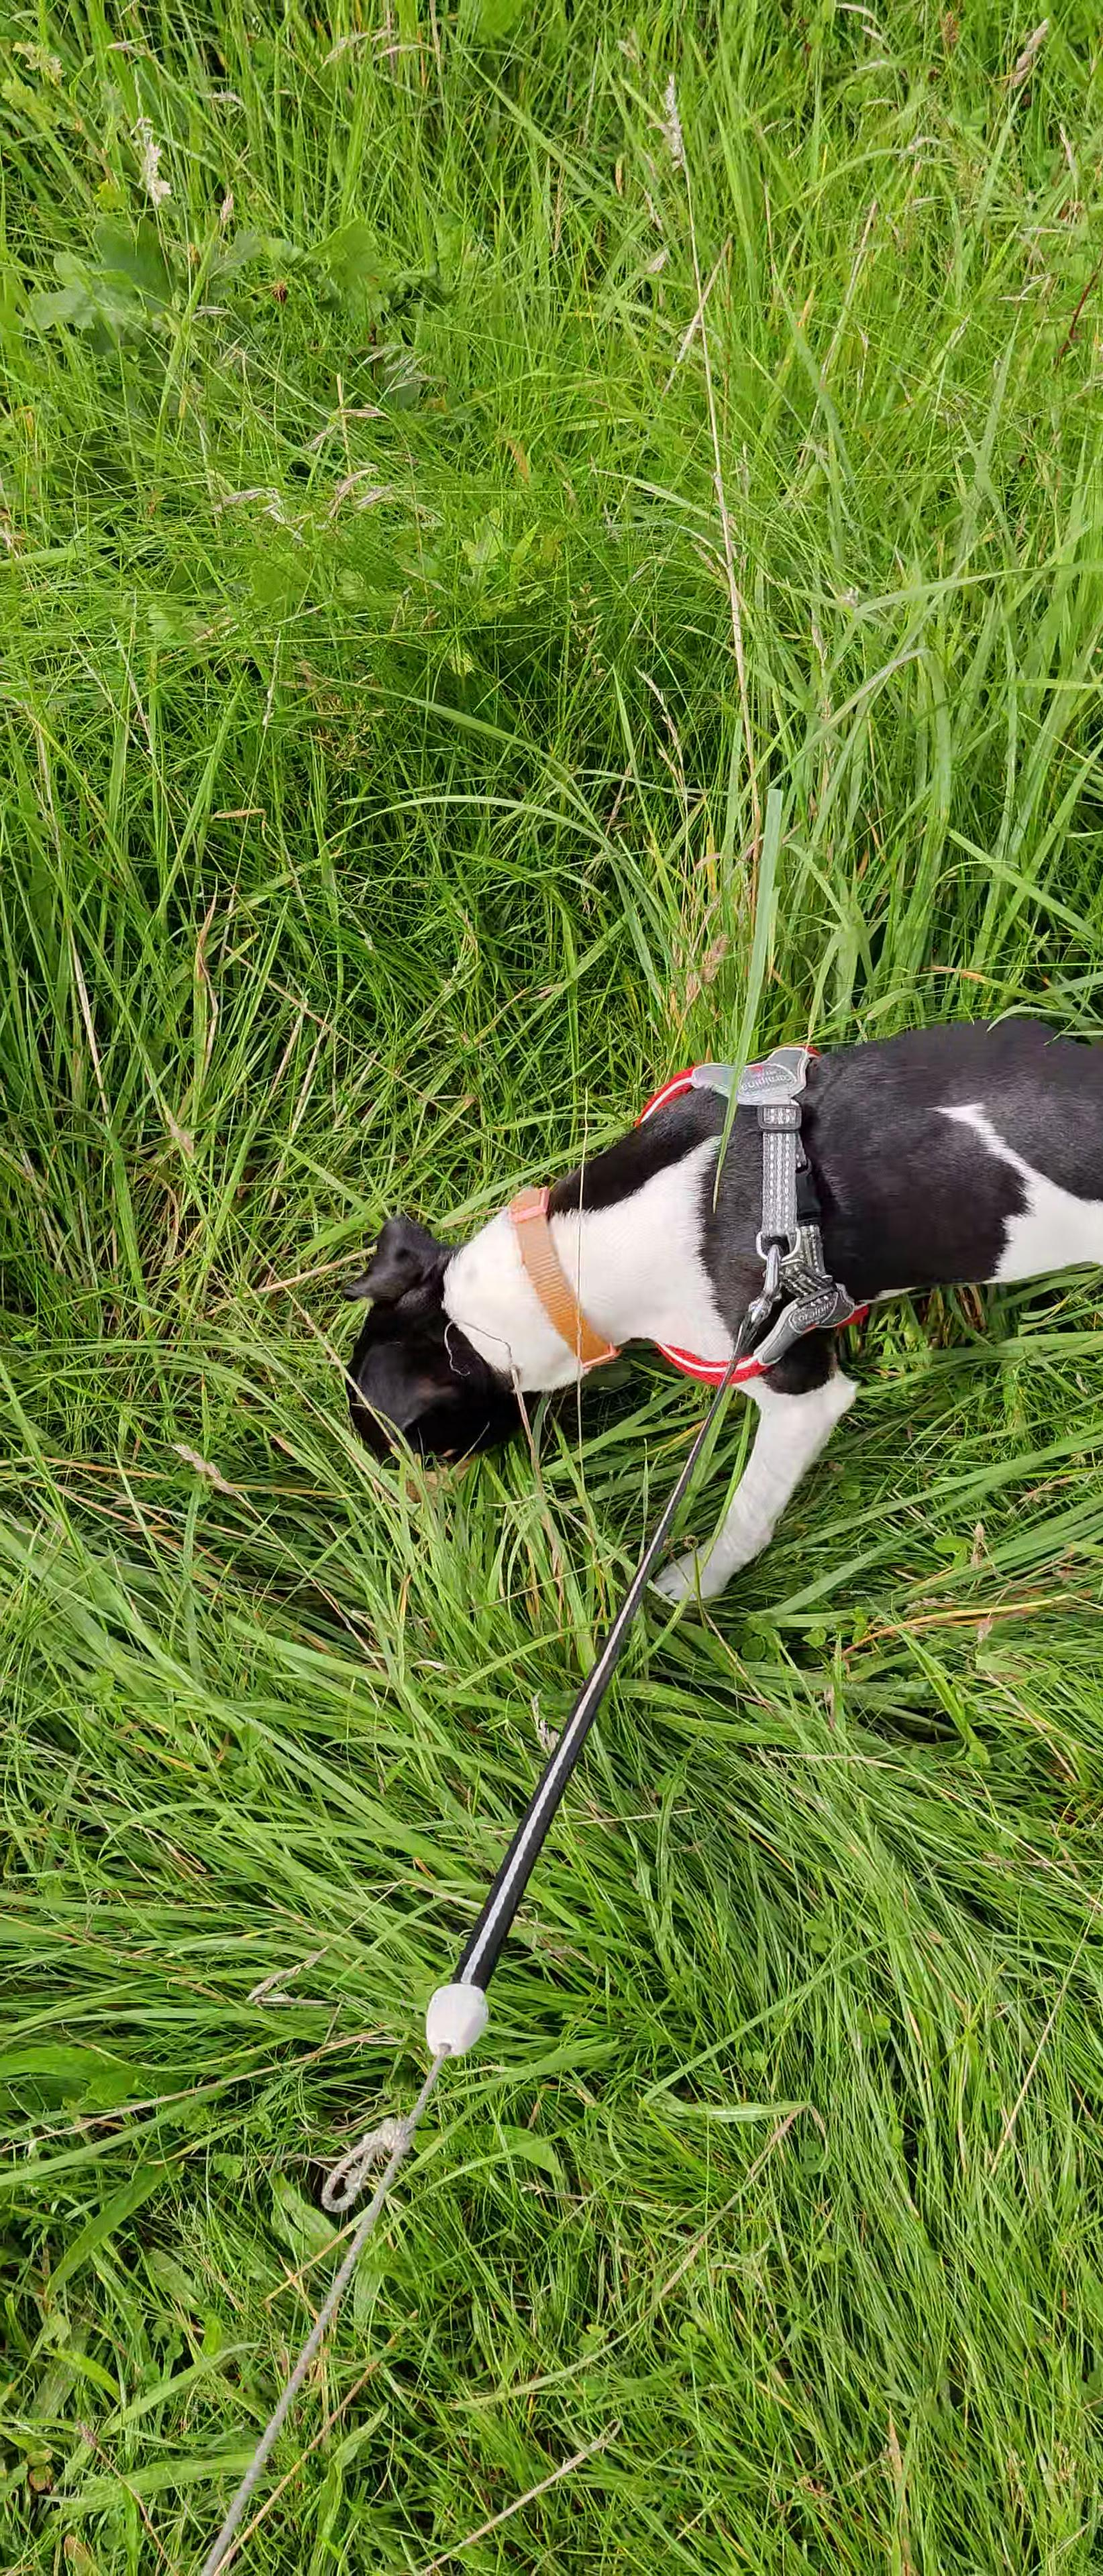Dog: (317, 1004, 1103, 1613)
